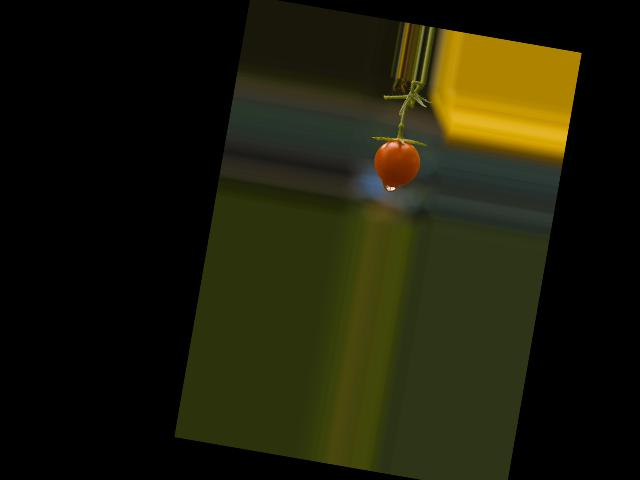tomato: (369, 136, 422, 189)
